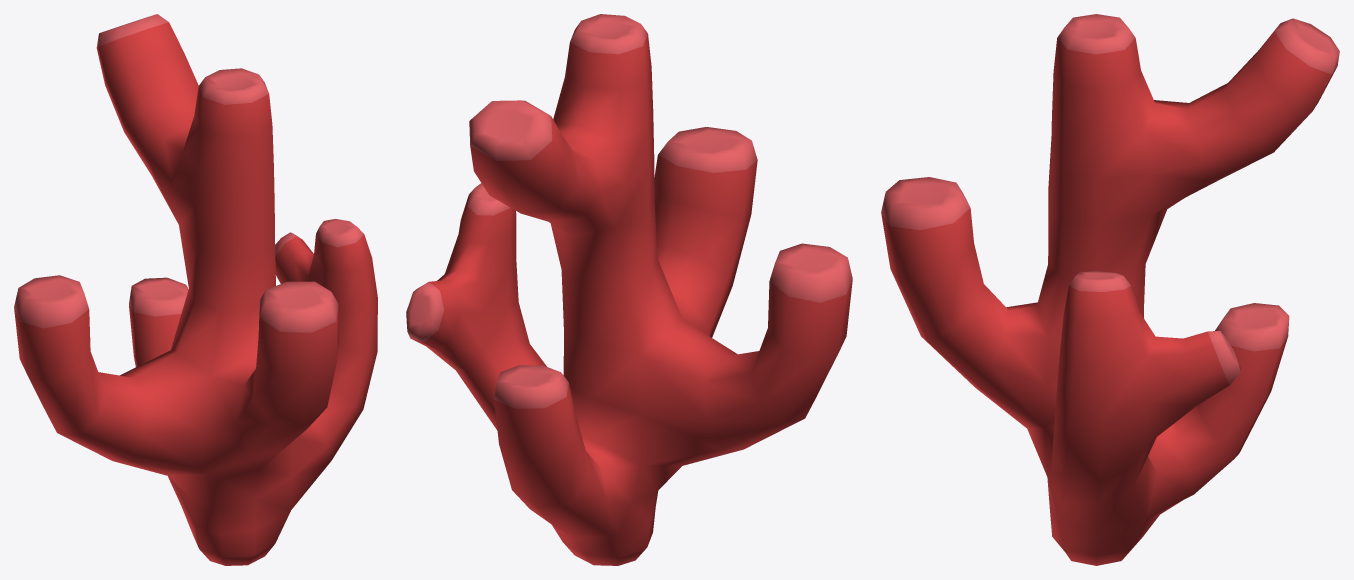
Rendered from terumbu karang merah kecil.fbx.
3 renders of one model, left to right at view 1: azimuth 30°, elevation 25°; view 2: azimuth 150°, elevation 25°; view 3: azimuth 270°, elevation 25°, orthographic. The views are drawn at different scales.
Parts seen in each view (by area): view 1: Coral; view 2: Coral; view 3: Coral.
Boxes of the visible parts, x1,y1,x2,y2 form: Coral: (14,14,377,565); Coral: (406,14,852,565); Coral: (881,14,1339,565).
Bounding box in the file's own units: 271 × 356 × 279.
